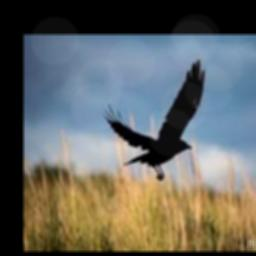Crow: (103, 58, 206, 181)
